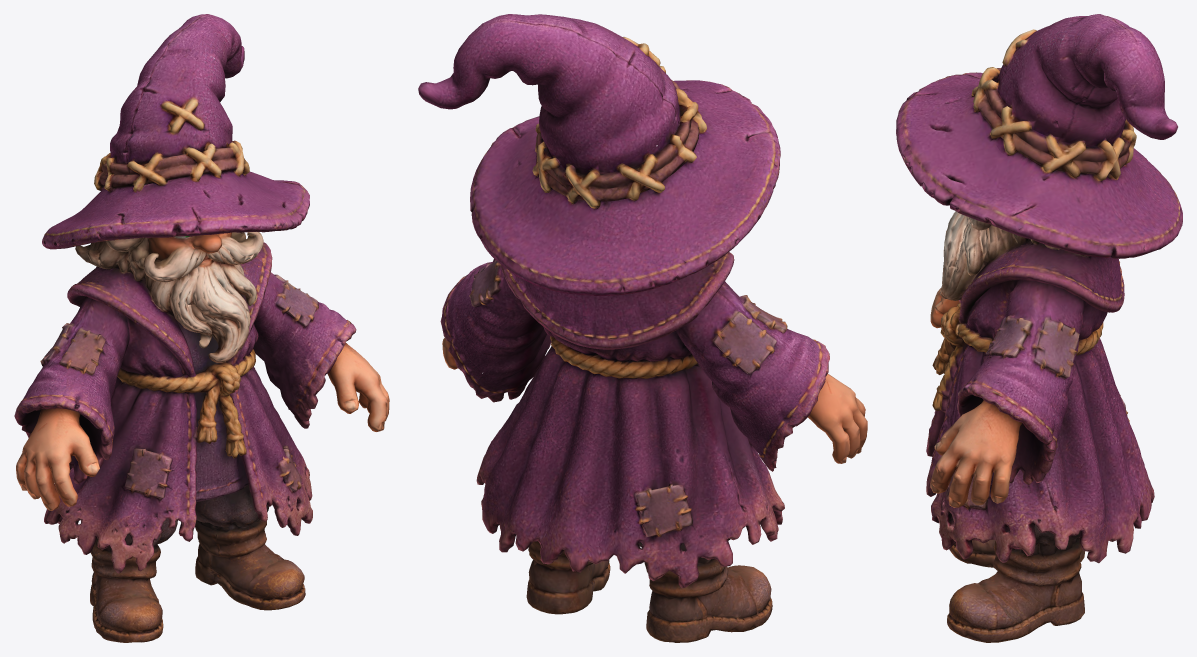
File: wizard.glb
3 renders of one model, left to right at view 1: azimuth 30°, elevation 25°; view 2: azimuth 150°, elevation 25°; view 3: azimuth 270°, elevation 25°, orthographic. The views are drawn at different scales.
Parts seen in each view (by area): view 1: tripo_node_5f8d0d90-544d-42f9-9c2a-4a539bbc4391; view 2: tripo_node_5f8d0d90-544d-42f9-9c2a-4a539bbc4391; view 3: tripo_node_5f8d0d90-544d-42f9-9c2a-4a539bbc4391.
Boxes of the visible parts, box(x1,y1,x2,y2) form: tripo_node_5f8d0d90-544d-42f9-9c2a-4a539bbc4391: box(14, 14, 389, 642); tripo_node_5f8d0d90-544d-42f9-9c2a-4a539bbc4391: box(418, 14, 867, 642); tripo_node_5f8d0d90-544d-42f9-9c2a-4a539bbc4391: box(896, 14, 1182, 642).
Bounding box in the file's own units: 0.6785 × 0.9784 × 0.4271.
Materials: 1 (1 with a texture image).
